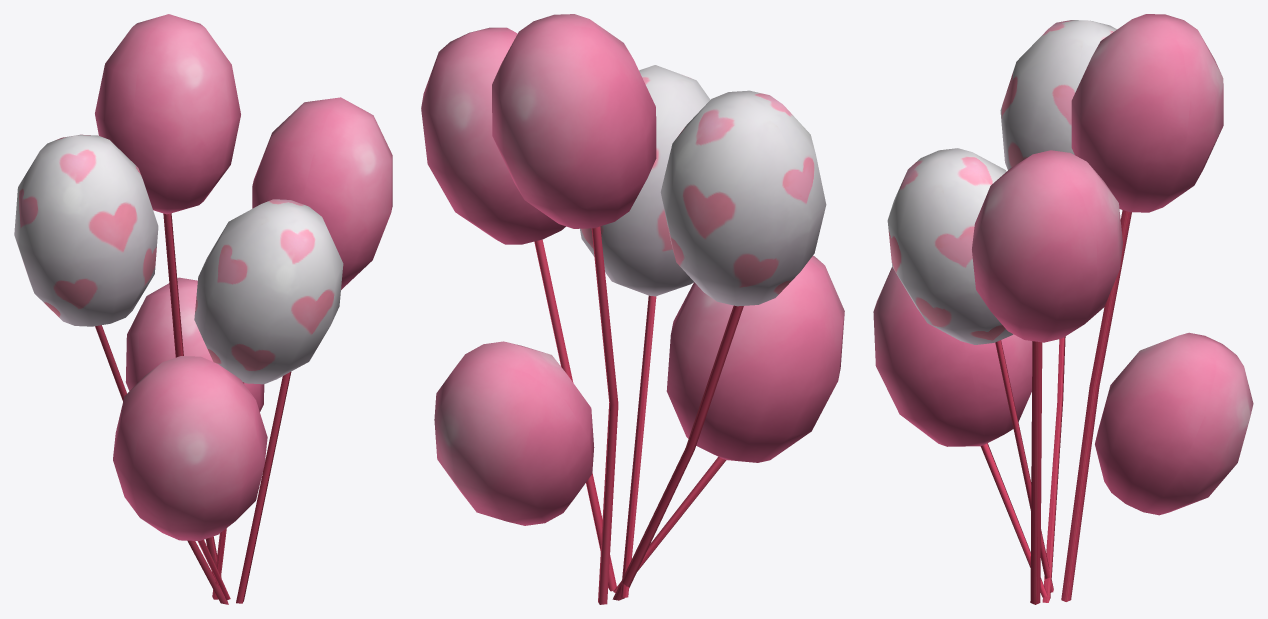
File: jiehun_ball.FBX
3 views of the same model, side by side, from view 1: azimuth 30°, elevation 25°; view 2: azimuth 150°, elevation 25°; view 3: azimuth 270°, elevation 25° (orthographic). The views are drawn at different scales.
Visible parts, largest first — view 1: jiehun_ball; view 2: jiehun_ball; view 3: jiehun_ball.
Part boxes in pixels (box(x1,y1,x2,y2)): jiehun_ball: box(14, 14, 392, 604); jiehun_ball: box(421, 14, 844, 604); jiehun_ball: box(873, 14, 1253, 604).
Size of the model in its own units: 55.81 by 83.85 by 49.83.
